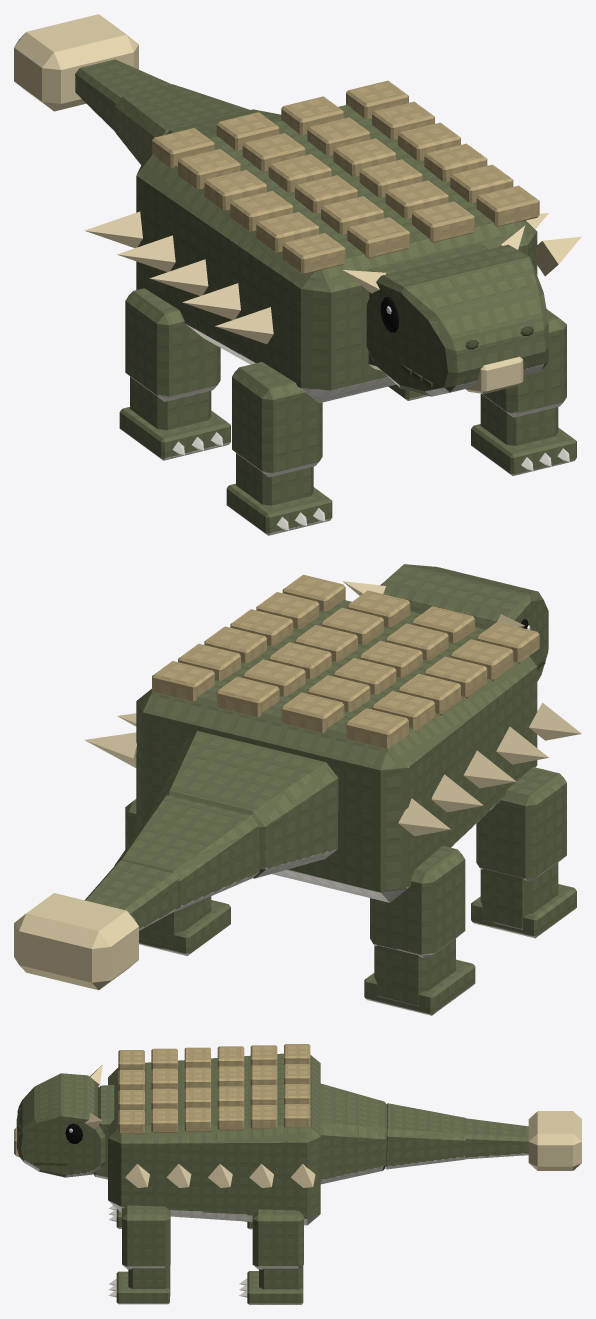
Rendered from 09_Ankylosaurus.glb.
The picture shows the model from 3 angles, top to bottom: view 1: azimuth 30°, elevation 25°; view 2: azimuth 150°, elevation 25°; view 3: azimuth 270°, elevation 25°; orthographic projection. The views are drawn at different scales.
Parts seen in each view (by area): view 1: 09_Ankylosaurus; view 2: 09_Ankylosaurus; view 3: 09_Ankylosaurus.
Part boxes in pixels (left/top/right/bottom): 09_Ankylosaurus: left=14, top=14, right=581, bottom=535; 09_Ankylosaurus: left=14, top=564, right=581, bottom=1015; 09_Ankylosaurus: left=14, top=1044, right=581, bottom=1304.
Bounding box in the file's own units: 4.54 × 3.3 × 9.61.
1 material, 1 textured.
